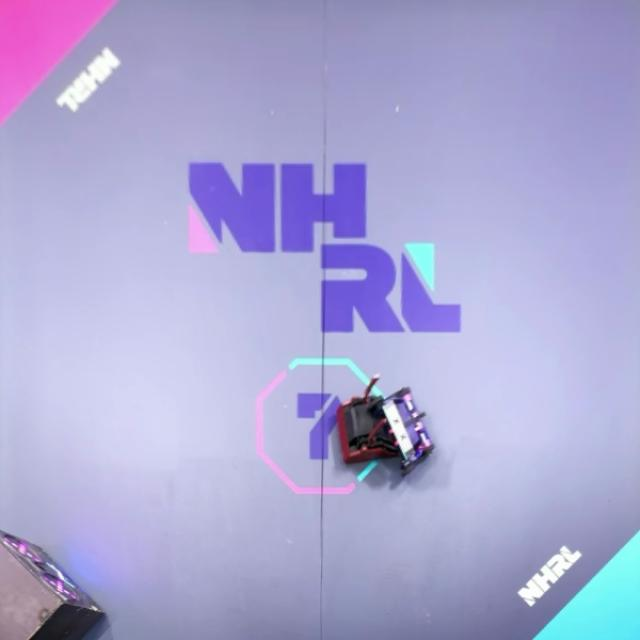housebot: (0, 529, 108, 640)
robot: (338, 374, 411, 466), (379, 388, 435, 473)
